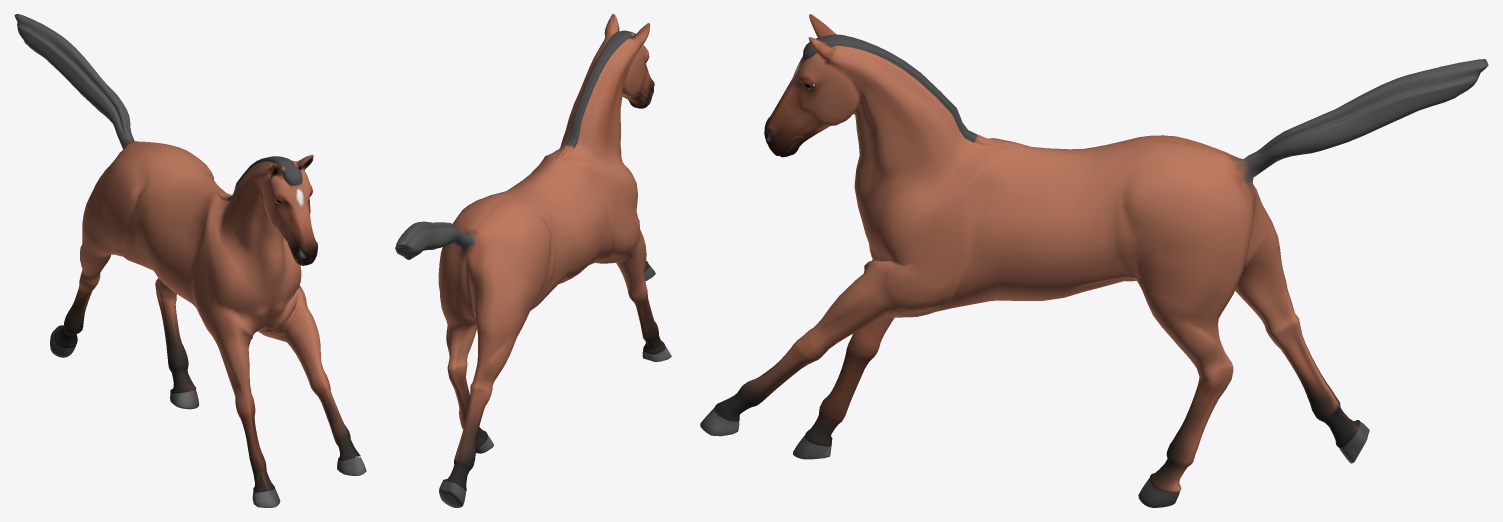
File: horse_obj_23.obj
3 views of the same model, side by side, from view 1: azimuth 30°, elevation 25°; view 2: azimuth 150°, elevation 25°; view 3: azimuth 270°, elevation 25° (orthographic). The views are drawn at different scales.
Visible parts, largest first — view 1: Figure_1; view 2: Figure_1; view 3: Figure_1.
Boxes of the visible parts, x1,y1,x2,y2 form: Figure_1: [14, 14, 366, 507]; Figure_1: [395, 14, 671, 507]; Figure_1: [700, 14, 1488, 507].
Size of the model in its own units: 0.2421 by 0.8427 by 1.31.
Materials: 7 (7 with a texture image).
